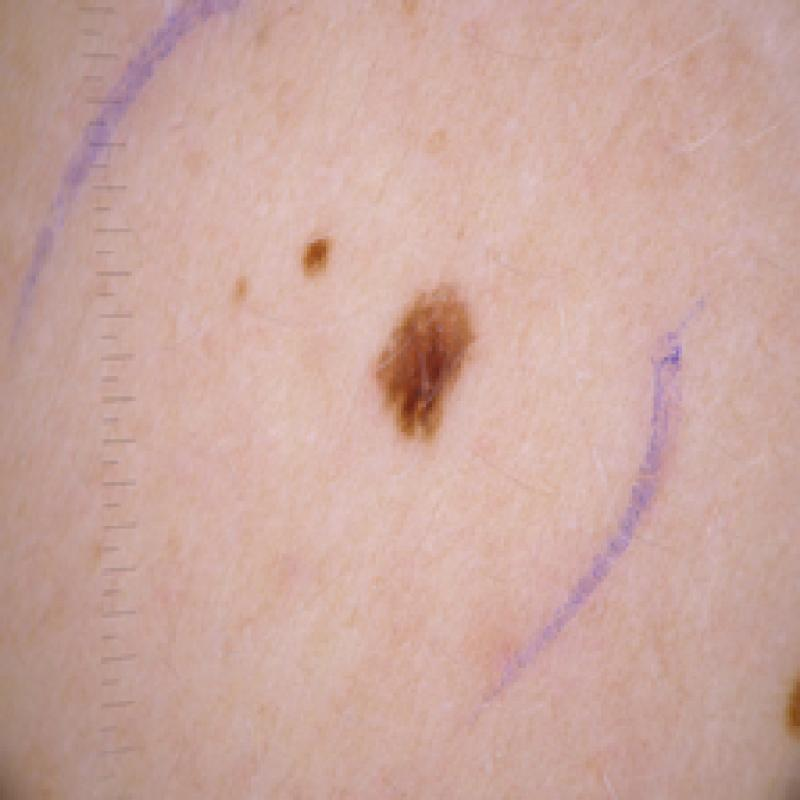benign: (352, 276, 506, 453), (226, 211, 341, 313)
